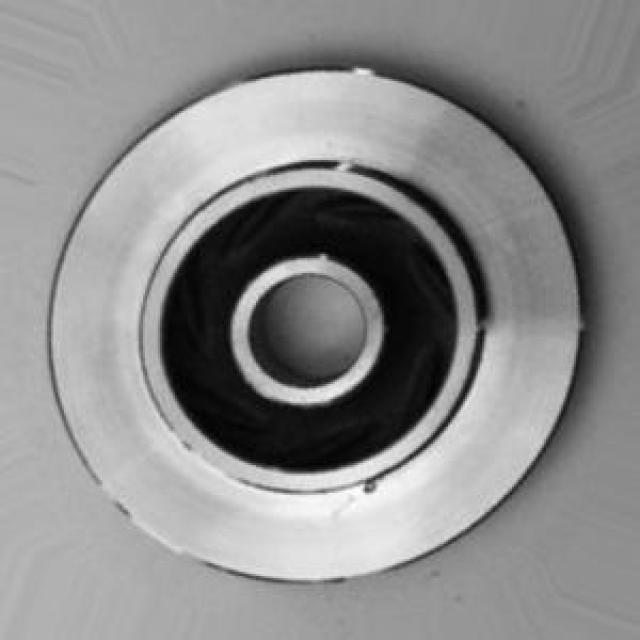Defect: (360, 471, 382, 503)
